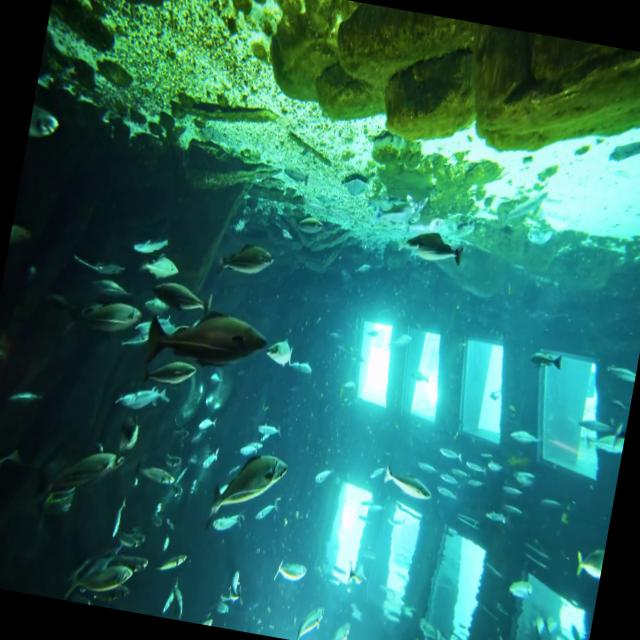fish: (130, 286, 276, 384), (202, 438, 298, 540), (42, 433, 124, 525), (66, 532, 148, 608), (68, 289, 150, 357), (212, 223, 280, 303), (395, 218, 473, 282), (373, 450, 444, 516), (568, 418, 626, 470), (270, 542, 324, 597), (0, 429, 36, 508), (523, 336, 571, 392), (132, 452, 184, 499), (26, 96, 66, 154), (107, 414, 151, 464), (148, 539, 194, 585), (290, 592, 333, 640), (564, 543, 604, 594), (132, 222, 177, 262), (136, 250, 178, 289), (312, 615, 355, 640)
